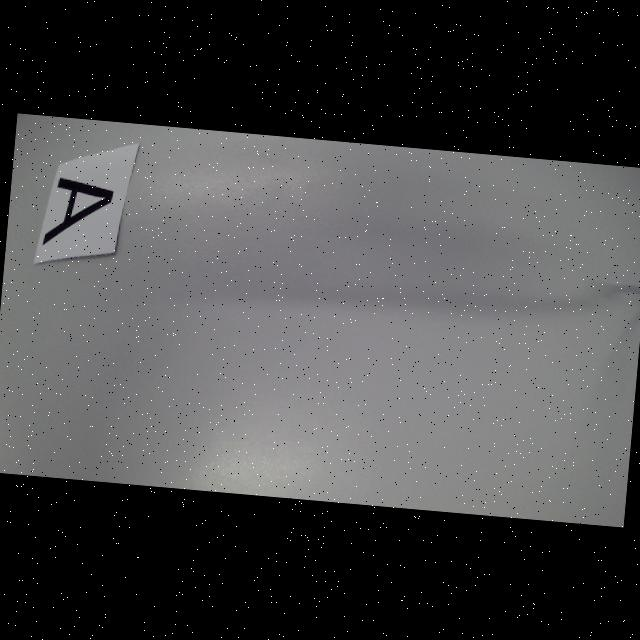FAKE: (42, 177, 114, 250)
